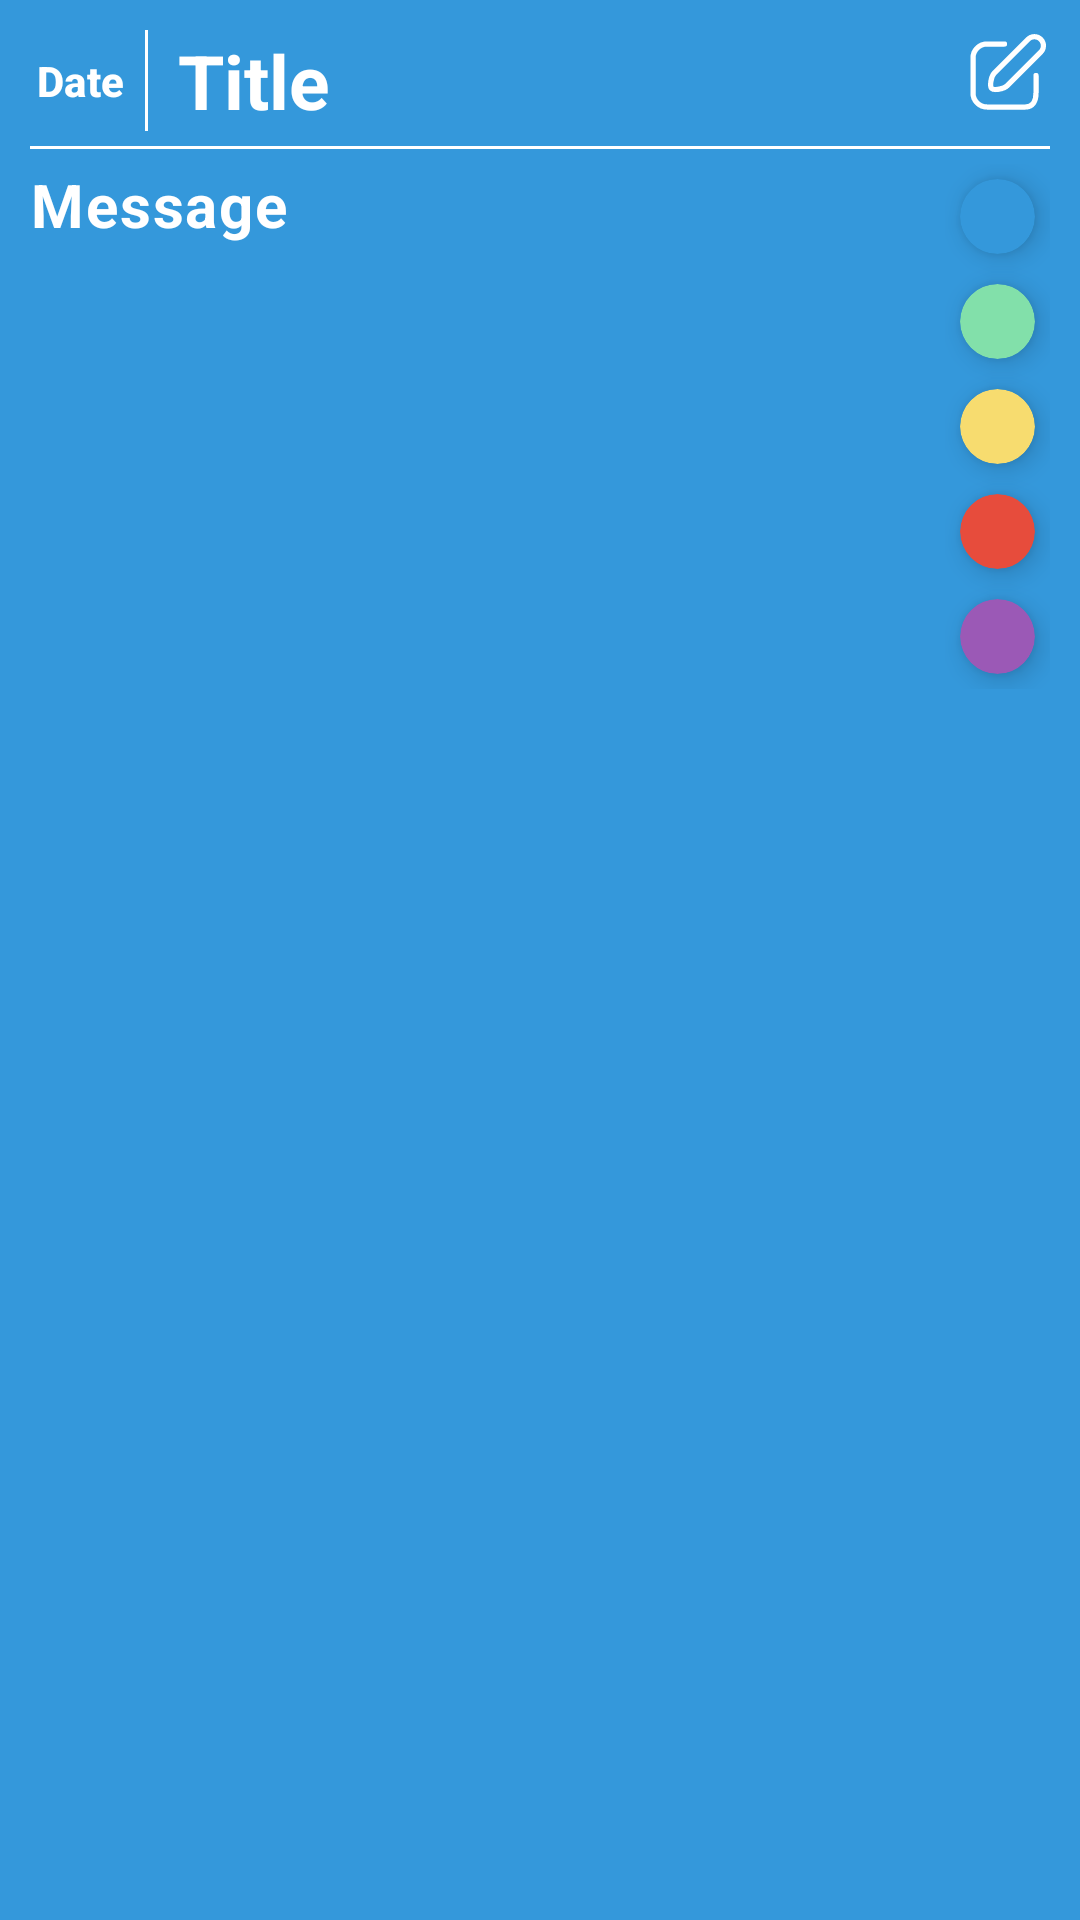

Locate icon controls on the screen. Image size 1080px x 1920px, boxes as (x1, y1, x2, y2).
edit: (970, 34, 1046, 110)
